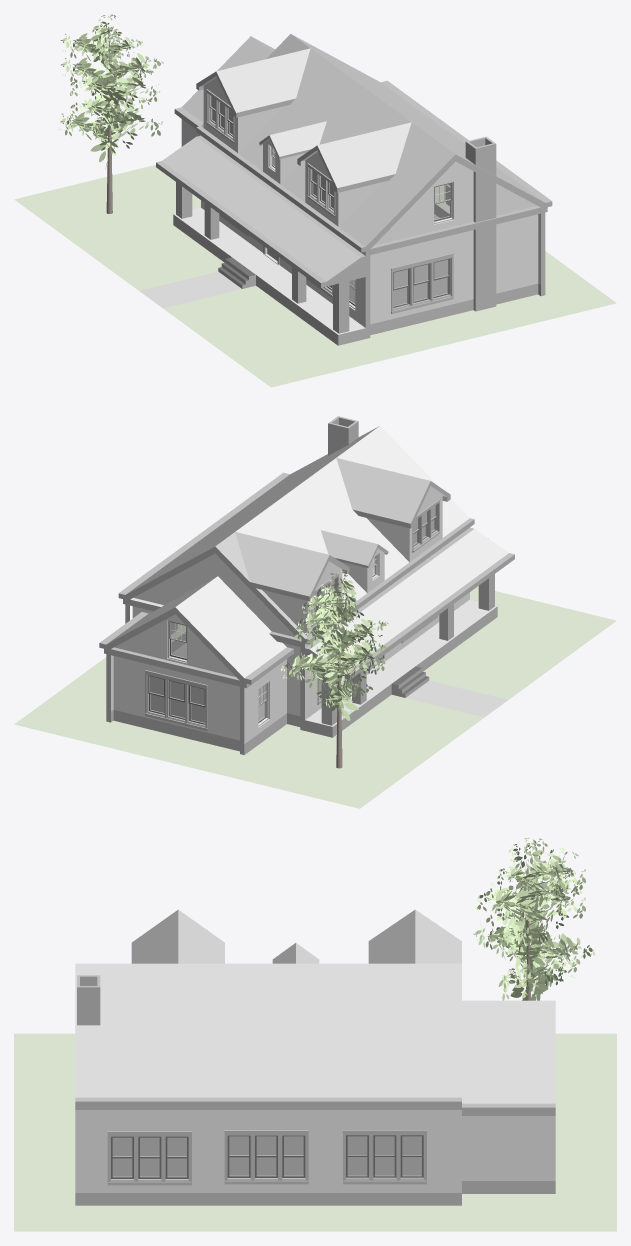
File: sp-prop-sf-2L-64ft.glb
The picture shows the model from 3 angles, top to bottom: view 1: azimuth 30°, elevation 25°; view 2: azimuth 150°, elevation 25°; view 3: azimuth 270°, elevation 25°; orthographic projection. The views are drawn at different scales.
Visible parts, largest first — view 1: 3DGeom-73, 3DGeom-2, 3DGeom-3, 3DGeom-1, 3DGeom-4, 3DGeom-634, 3DGeom-5, 3DGeom-17; view 2: 3DGeom-73, 3DGeom-2, 3DGeom-3, 3DGeom-1, 3DGeom-4, 3DGeom-634, 3DGeom-5, 3DGeom-17; view 3: 3DGeom-4, 3DGeom-73, 3DGeom-2, 3DGeom-1, 3DGeom-634, 3DGeom-5.
Boxes of the visible parts, x1,y1,x2,y2 form: 3DGeom-73: (14, 165, 616, 387); 3DGeom-2: (156, 34, 552, 345); 3DGeom-3: (139, 36, 455, 308); 3DGeom-1: (173, 77, 540, 334); 3DGeom-4: (216, 34, 543, 201); 3DGeom-634: (58, 14, 163, 168); 3DGeom-5: (209, 95, 451, 313); 3DGeom-17: (272, 147, 450, 303); 3DGeom-73: (14, 586, 616, 808); 3DGeom-2: (99, 416, 514, 754); 3DGeom-3: (175, 426, 508, 717); 3DGeom-1: (111, 486, 497, 743); 3DGeom-4: (107, 426, 430, 643); 3DGeom-634: (281, 570, 388, 720); 3DGeom-5: (148, 504, 437, 730); 3DGeom-17: (170, 556, 376, 720); 3DGeom-4: (75, 909, 555, 1103); 3DGeom-73: (14, 1033, 616, 1231); 3DGeom-2: (75, 975, 555, 1205); 3DGeom-1: (75, 1110, 555, 1192); 3DGeom-634: (473, 837, 594, 1000); 3DGeom-5: (111, 1135, 423, 1178).
Bounding box in the file's own units: 15.25 × 8.31 × 19.65.
